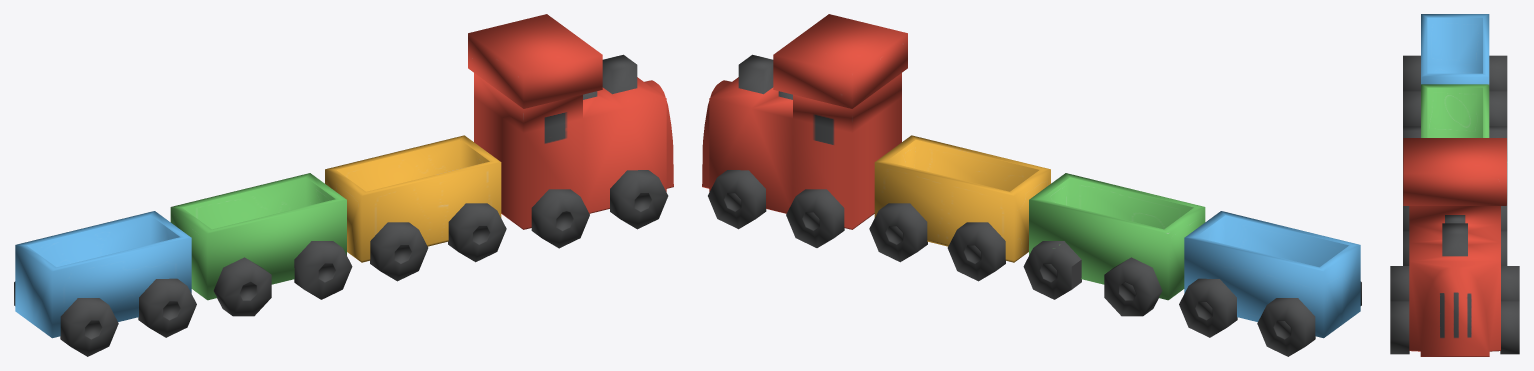
File: Light_Train.fbx
The picture shows the model from 3 angles, left to right: view 1: azimuth 30°, elevation 25°; view 2: azimuth 150°, elevation 25°; view 3: azimuth 270°, elevation 25°; orthographic projection. The views are drawn at different scales.
Parts seen in each view (by area): view 1: toy-trained-cargo; view 2: toy-trained-cargo; view 3: toy-trained-cargo.
Part boxes in pixels (left/top/right/bottom): toy-trained-cargo: left=14, top=14, right=673, bottom=356; toy-trained-cargo: left=702, top=14, right=1361, bottom=356; toy-trained-cargo: left=1390, top=14, right=1519, bottom=356.
Bounding box in the file's own units: 231 × 62.39 × 44.71.
Materials: 1 (1 with a texture image).
